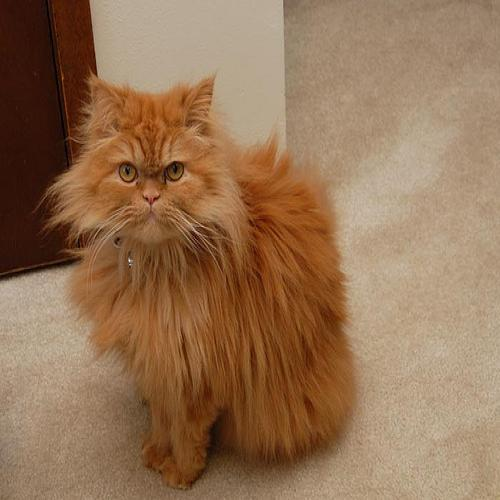persian: (61, 66, 237, 256)
